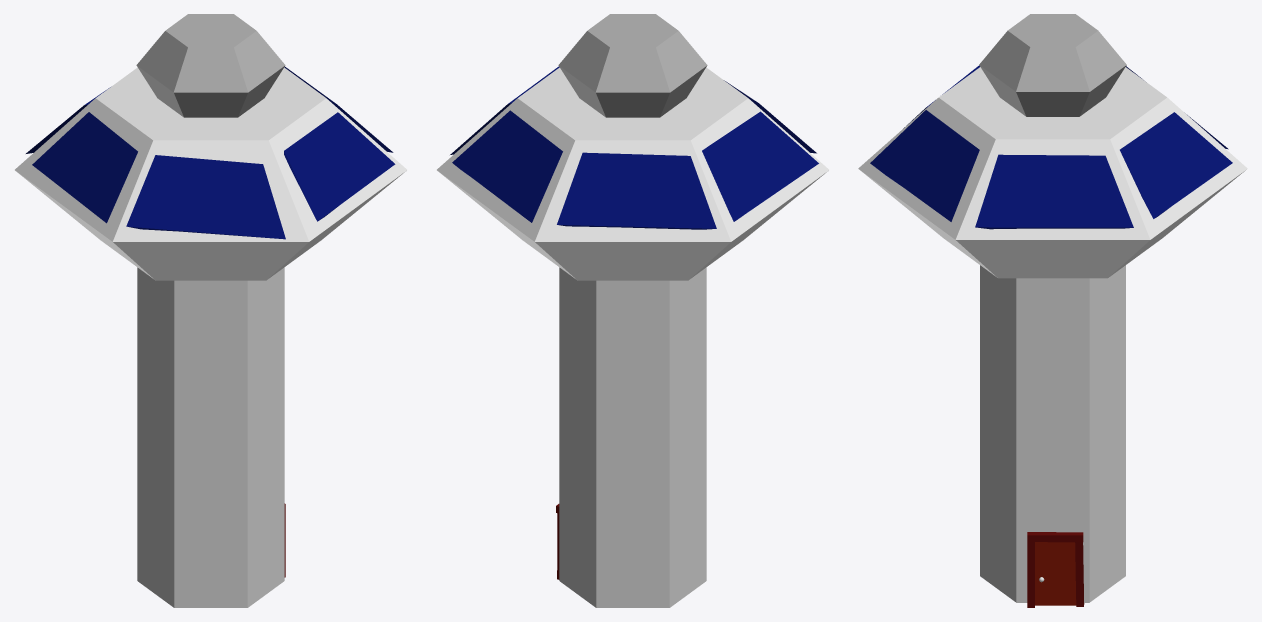
File: AirportTower.fbx
3 views of the same model, side by side, from view 1: azimuth 30°, elevation 25°; view 2: azimuth 150°, elevation 25°; view 3: azimuth 270°, elevation 25° (orthographic).
Visible parts, largest first — view 1: Küre.001; view 2: Küre.001; view 3: Küre.001.
Boxes of the visible parts, x1,y1,x2,y2 form: Küre.001: [15, 14, 406, 607]; Küre.001: [437, 14, 828, 607]; Küre.001: [858, 14, 1247, 607].
Bounding box in the file's own units: 925 × 1655 × 1068.
